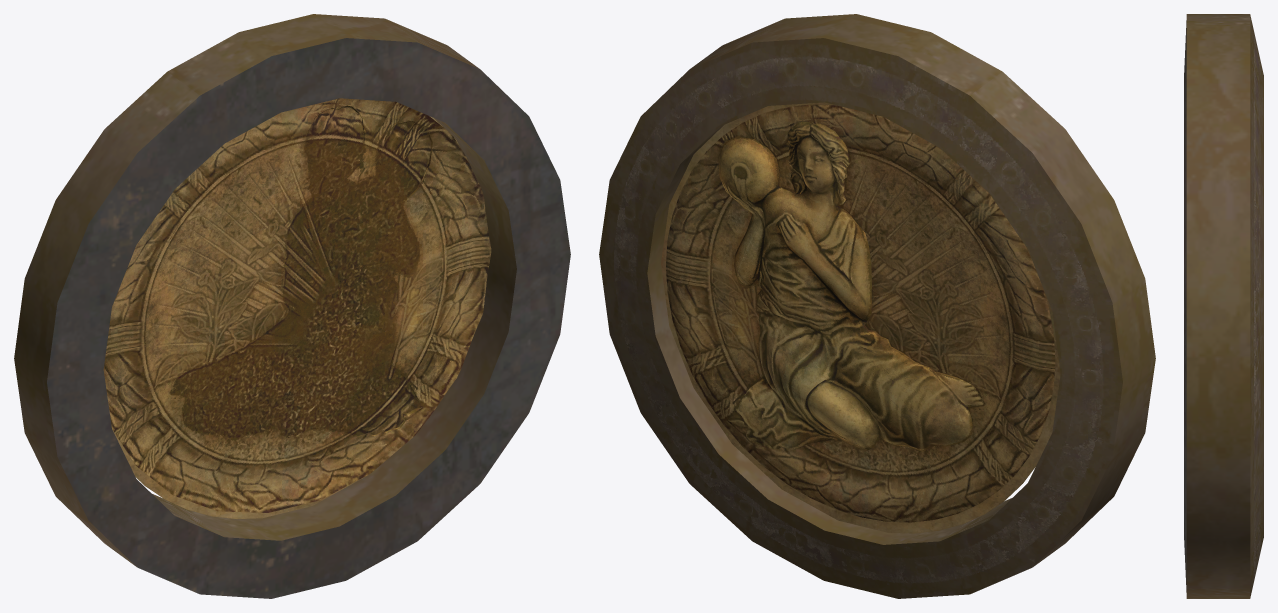
The model's file is sm42_182_womanstatue01a_Mini_Part_Anim.fbx.
The picture shows the model from 3 angles, left to right: view 1: azimuth 30°, elevation 25°; view 2: azimuth 150°, elevation 25°; view 3: azimuth 270°, elevation 25°; orthographic projection. The views are drawn at different scales.
Parts seen in each view (by area): view 1: LOD_1_Group_1_Sub_1__sm42_182_WomanStatue01A_D_Mat, LOD_1_Group_0_Sub_2__sm73_145_VirginMedal02A_A_Mat__Env_7f84, LOD_1_Group_4_Sub_1__sm73_145_VirginMedal02A_A_Mat__Env_18ec; view 2: LOD_1_Group_1_Sub_1__sm42_182_WomanStatue01A_D_Mat, LOD_1_Group_0_Sub_2__sm73_145_VirginMedal02A_A_Mat__Env_7f84, LOD_1_Group_1_Sub_2__sm73_145_VirginMedal02A_A_Mat__Env_a1c6, LOD_1_Group_4_Sub_1__sm73_145_VirginMedal02A_A_Mat__Env_18ec; view 3: LOD_1_Group_1_Sub_1__sm42_182_WomanStatue01A_D_Mat.
Boxes of the visible parts, <box> form: LOD_1_Group_1_Sub_1__sm42_182_WomanStatue01A_D_Mat: <box>14,14,570,598</box>; LOD_1_Group_0_Sub_2__sm73_145_VirginMedal02A_A_Mat__Env_7f84: <box>103,98,491,512</box>; LOD_1_Group_4_Sub_1__sm73_145_VirginMedal02A_A_Mat__Env_18ec: <box>112,116,458,518</box>; LOD_1_Group_1_Sub_1__sm42_182_WomanStatue01A_D_Mat: <box>599,14,1155,598</box>; LOD_1_Group_0_Sub_2__sm73_145_VirginMedal02A_A_Mat__Env_7f84: <box>666,104,1055,522</box>; LOD_1_Group_1_Sub_2__sm73_145_VirginMedal02A_A_Mat__Env_a1c6: <box>718,121,983,451</box>; LOD_1_Group_4_Sub_1__sm73_145_VirginMedal02A_A_Mat__Env_18ec: <box>661,102,1060,533</box>; LOD_1_Group_1_Sub_1__sm42_182_WomanStatue01A_D_Mat: <box>1184,14,1263,598</box>.
Size of the model in its own units: 20.45 by 20.24 by 2.79.
